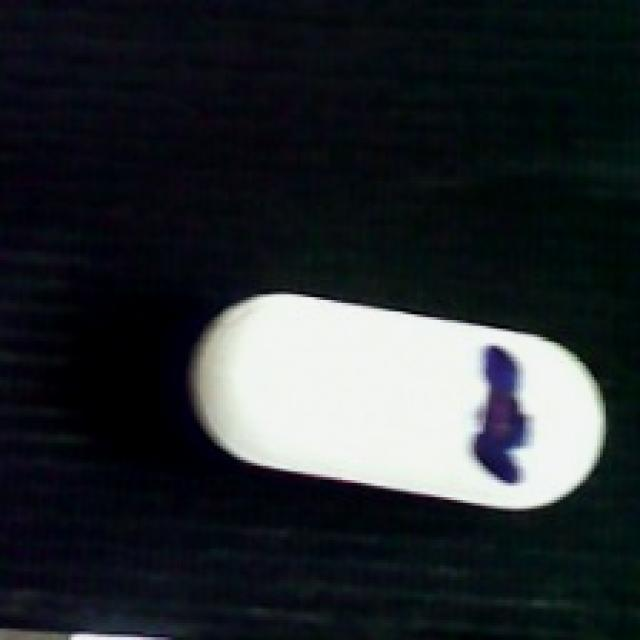defected: (180, 292, 617, 511)
